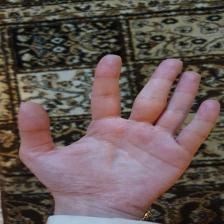five: (19, 51, 222, 207)
